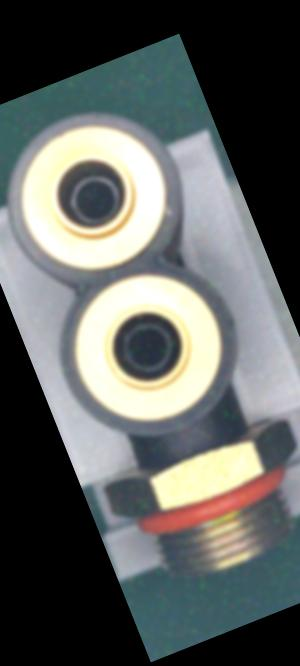white mark: (179, 440, 197, 461)
